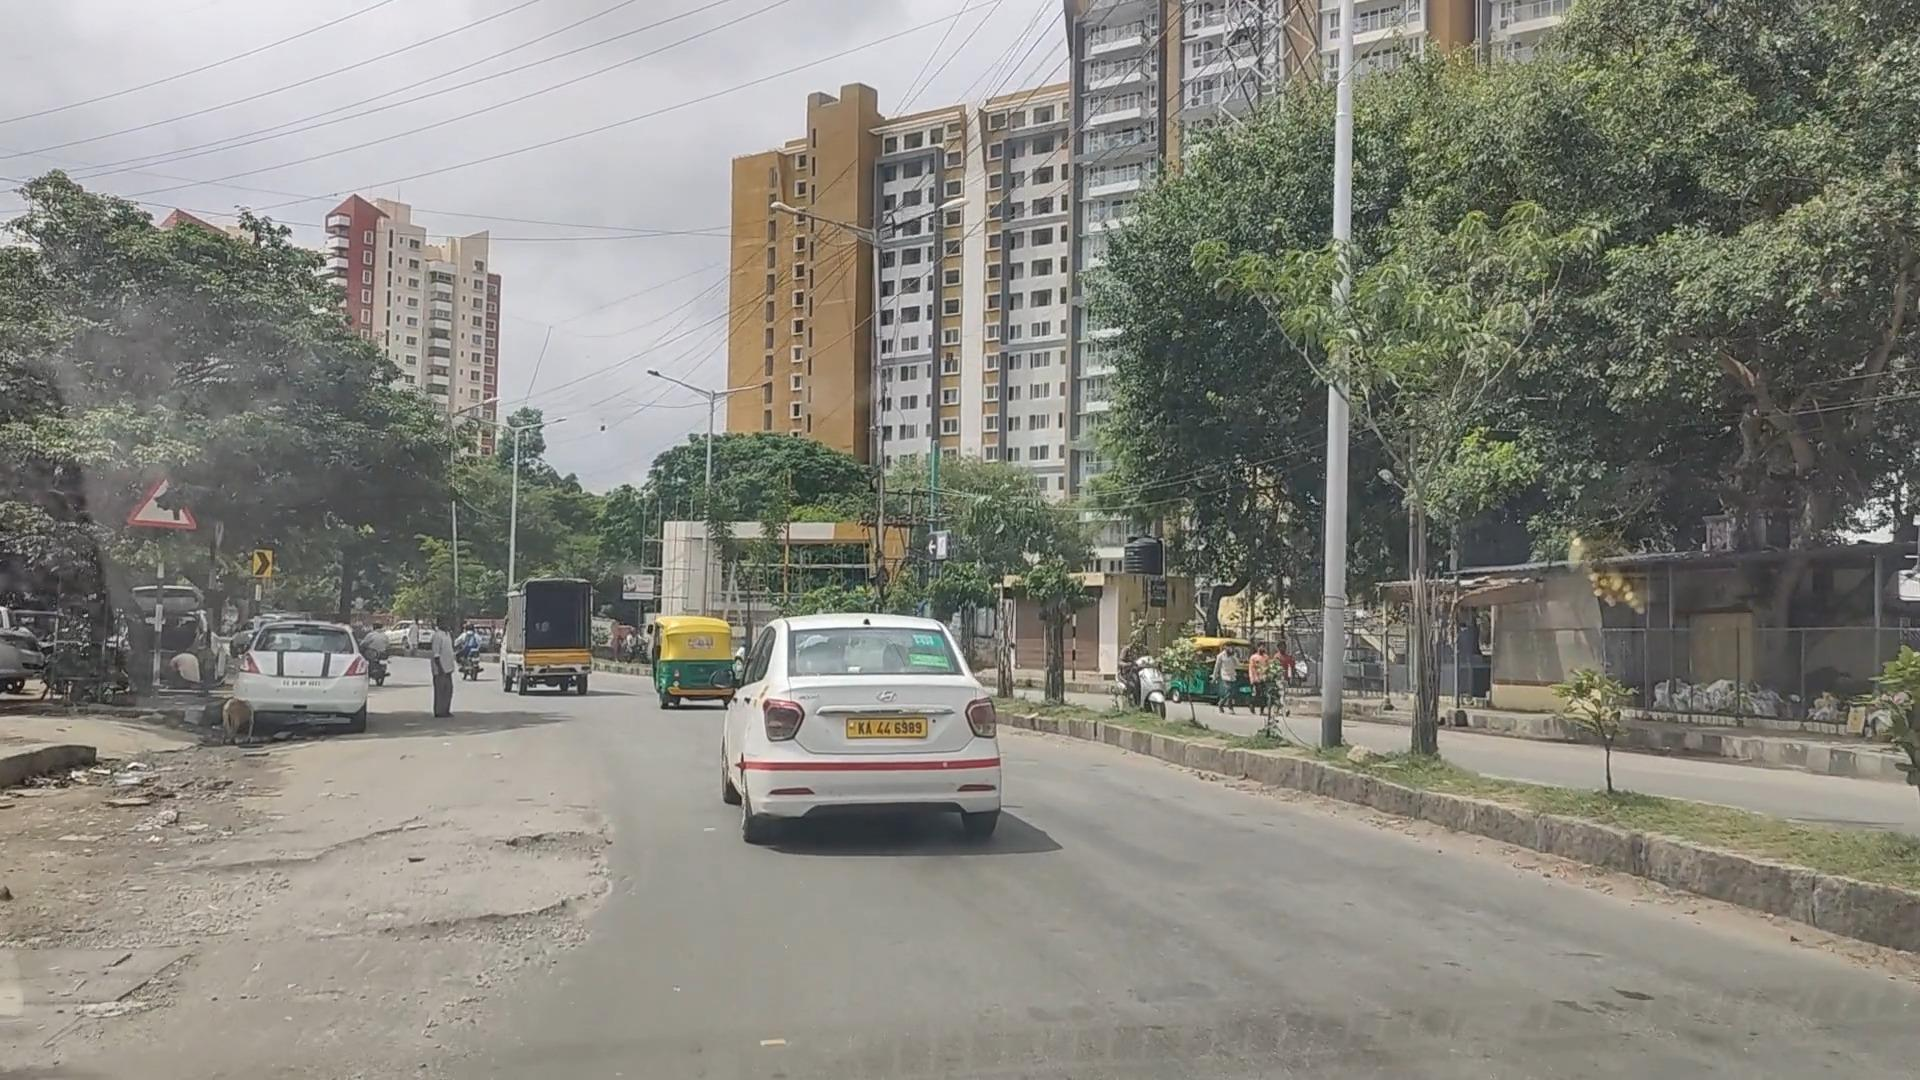LMV: (715, 607, 1015, 853)
RoadDamages: (104, 807, 603, 1048)
